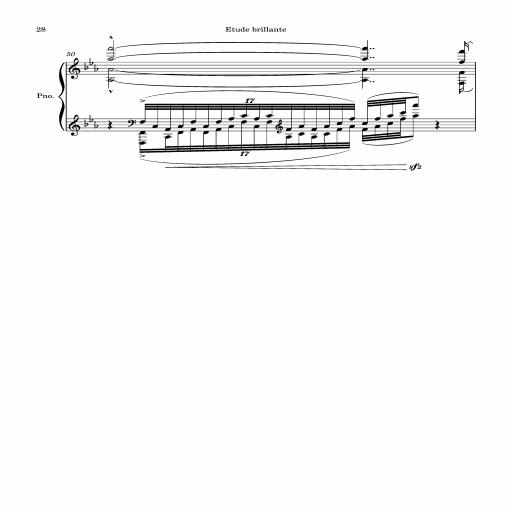base_clef: (128, 120, 136, 126)
double_staccato: (370, 48, 374, 49), (370, 57, 374, 58), (370, 69, 374, 70), (370, 81, 374, 82)
eighth_note: (409, 114, 419, 138)
flat: (90, 58, 94, 66), (94, 64, 98, 72), (84, 119, 88, 127), (94, 121, 98, 129), (84, 63, 88, 70), (90, 115, 94, 122)
half_note: (108, 40, 114, 61), (108, 68, 113, 88), (108, 40, 114, 50), (108, 78, 114, 88)
note_head: (108, 57, 114, 61), (108, 68, 114, 72), (108, 78, 114, 82), (362, 57, 368, 61), (362, 78, 368, 82), (459, 60, 465, 64), (459, 81, 465, 85), (140, 120, 146, 124), (140, 141, 146, 145), (165, 135, 171, 139), (216, 120, 222, 124), (241, 114, 247, 118), (241, 120, 247, 124), (254, 117, 260, 121), (286, 135, 292, 139), (311, 135, 317, 139), (324, 132, 330, 136), (349, 117, 355, 121), (400, 111, 406, 115), (400, 117, 406, 121), (191, 120, 196, 124), (229, 117, 234, 121), (267, 114, 272, 118), (267, 120, 272, 124), (299, 132, 304, 136), (375, 117, 380, 121), (388, 114, 393, 118), (413, 114, 418, 118), (108, 47, 114, 50), (362, 47, 368, 50), (362, 68, 368, 71), (459, 50, 465, 53), (459, 71, 465, 74), (140, 131, 146, 134), (165, 128, 171, 131), (178, 125, 184, 128), (178, 131, 184, 134), (203, 125, 209, 128), (216, 128, 222, 131), (254, 125, 260, 128), (286, 128, 292, 131), (311, 128, 317, 131), (324, 125, 330, 128), (349, 125, 355, 128), (362, 122, 368, 125), (362, 128, 368, 131), (203, 131, 209, 134), (153, 125, 158, 128), (191, 128, 196, 131), (229, 125, 234, 128), (299, 125, 304, 128), (337, 122, 342, 125), (337, 128, 342, 131), (375, 125, 380, 128), (388, 122, 393, 125), (413, 104, 418, 106)
quarter_note: (362, 40, 368, 61), (362, 68, 368, 88), (362, 40, 368, 50), (362, 78, 368, 88)
quarter_rest: (435, 120, 440, 130), (108, 120, 112, 130)
sixteenth_note: (459, 41, 469, 64), (459, 71, 465, 94), (140, 131, 146, 154), (459, 41, 469, 53), (459, 81, 465, 94), (140, 141, 146, 154), (413, 96, 418, 106)
slur_sign: (140, 150, 350, 164), (145, 90, 355, 102), (115, 42, 361, 49), (115, 52, 361, 58), (114, 70, 360, 76), (114, 81, 360, 87), (362, 138, 413, 146), (462, 88, 473, 92), (468, 42, 473, 44)
staccato: (370, 48, 371, 49), (373, 48, 374, 49), (370, 57, 371, 58), (373, 57, 374, 58), (370, 69, 371, 70), (373, 69, 374, 70), (370, 81, 371, 82), (373, 81, 374, 82)
staff: (66, 62, 476, 74), (66, 119, 476, 131)
thirty_second_note: (362, 100, 374, 125), (165, 103, 174, 131), (203, 103, 212, 128), (286, 103, 294, 131), (312, 103, 320, 131), (140, 103, 150, 124), (152, 103, 160, 128), (178, 103, 186, 128), (299, 103, 307, 128), (324, 103, 332, 128), (375, 99, 384, 121), (241, 120, 247, 152), (347, 125, 355, 149), (387, 98, 396, 118), (336, 103, 344, 125), (254, 125, 260, 151), (267, 120, 272, 151), (399, 117, 406, 139), (191, 103, 198, 124), (216, 103, 223, 124), (228, 103, 236, 121), (254, 103, 262, 121), (216, 128, 222, 152), (241, 103, 250, 118), (229, 125, 234, 152), (178, 131, 184, 153), (191, 128, 196, 153), (266, 103, 274, 118), (203, 132, 209, 152), (400, 97, 406, 115), (165, 135, 171, 153), (324, 132, 330, 150), (337, 128, 342, 149), (349, 103, 355, 120), (286, 135, 292, 151), (299, 132, 304, 150), (311, 135, 317, 150), (388, 122, 393, 140), (362, 128, 368, 142), (375, 125, 380, 141)
treble_clef: (69, 114, 80, 136), (69, 58, 80, 79), (275, 120, 283, 134)
